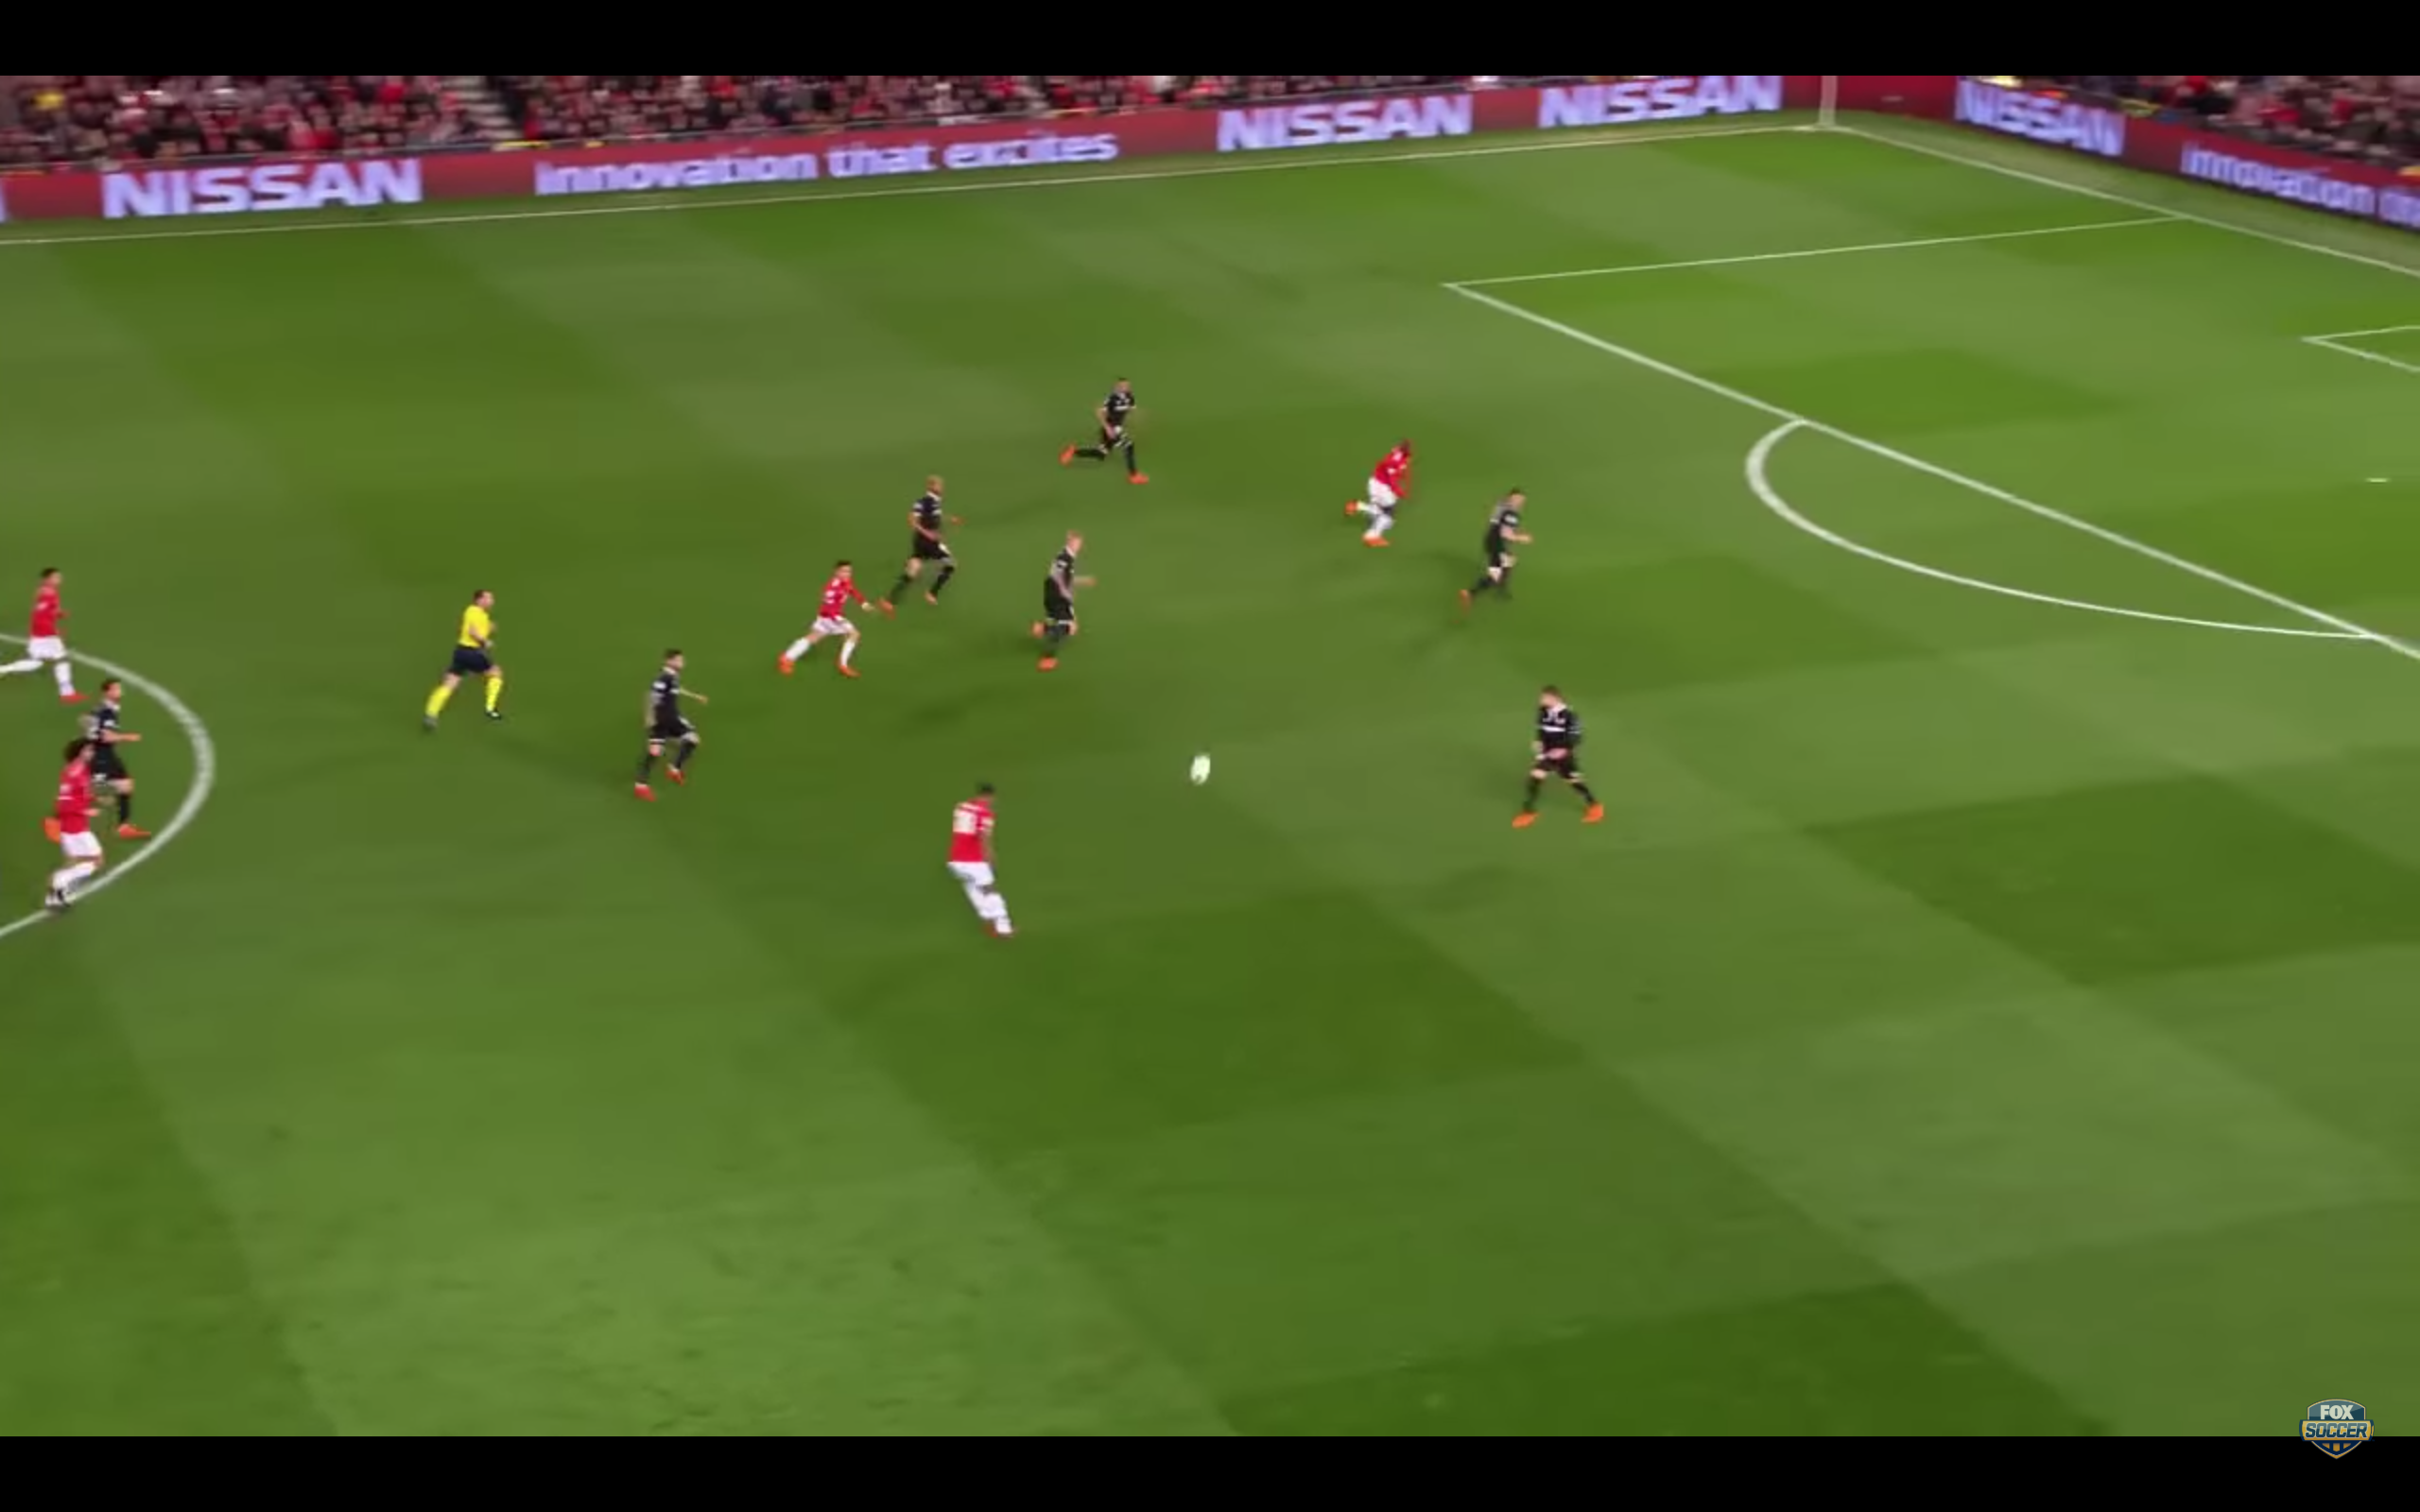referee: (411, 584, 514, 743)
soccer ball: (1184, 747, 1219, 790)
soccer player: (1498, 671, 1615, 846), (941, 774, 1031, 944), (623, 646, 719, 807), (37, 718, 109, 916), (7, 557, 95, 713), (878, 473, 970, 616), (1057, 369, 1158, 494), (1026, 527, 1109, 680), (775, 558, 871, 687), (1460, 481, 1541, 618), (1337, 433, 1423, 557), (92, 676, 147, 854)
